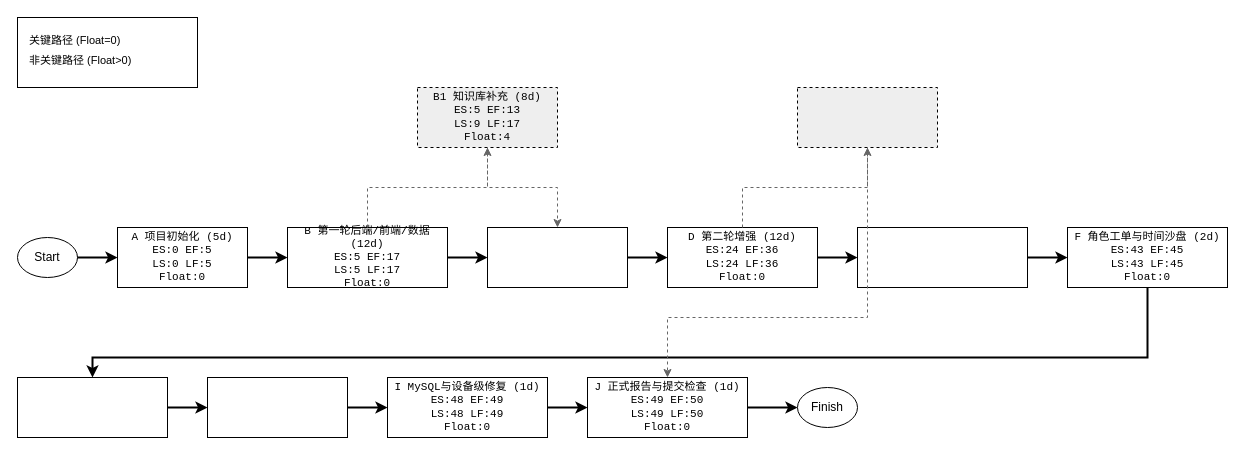
This 1245x455 diagram has some shape labels left out. Here are the shapes that lost their labels. From the top down, the centre of each, then its label:
At (867,117): "D1 演示素材准备 (5d) ES:36 EF:41 LS:44 LF:49 Float:8".
At (557,257): "C 第一次集成 (7d) ES:17 EF:24 LS:17 LF:24 Float:0".
At (942,257): "E MCP/LLM/最终基础版 (7d) ES:36 EF:43 LS:36 LF:43 Float:0".
At (92,407): "G 预算ROI与决策 (2d) ES:45 EF:47 LS:45 LF:47 Float:0".
At (277,407): "H 数据口径清洗 (1d) ES:47 EF:48 LS:47 LF:48 Float:0".
